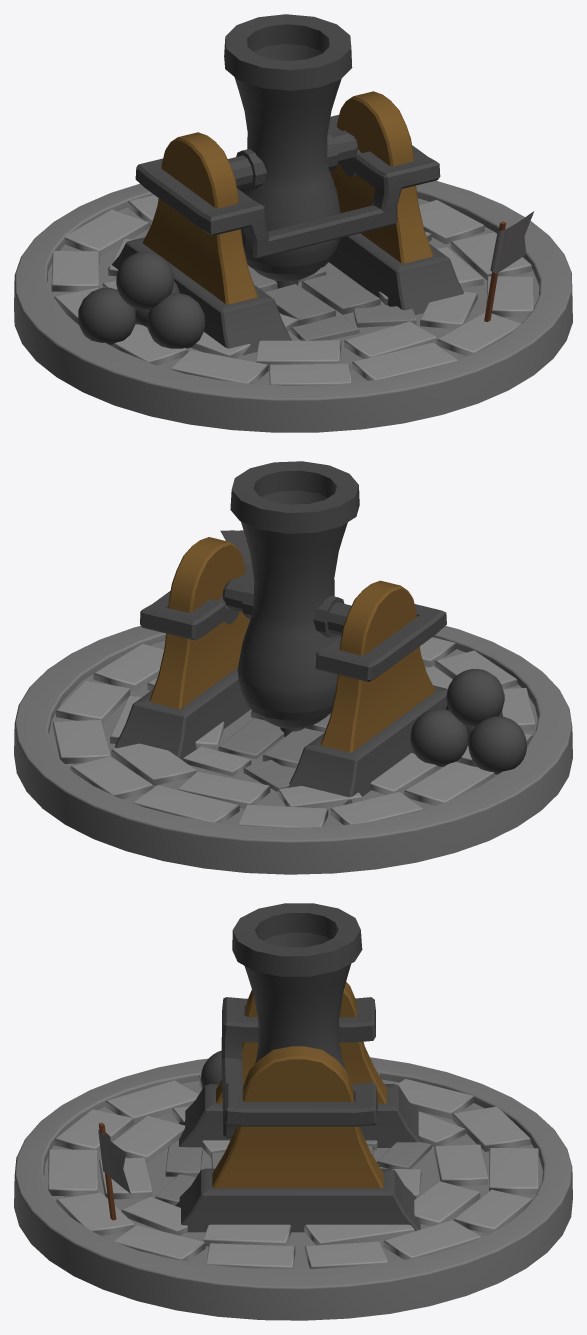
File: Cannon.fbx
3 views of the same model, one above another, from view 1: azimuth 30°, elevation 25°; view 2: azimuth 150°, elevation 25°; view 3: azimuth 270°, elevation 25° (orthographic).
Parts seen in each view (by area): view 1: Cannon, polySurface7, Cannon.004, polySurface4, polySurface4.001, polySurface7.001, Plane.009_feather_0; view 2: Cannon, polySurface7, Cannon.004, polySurface4, polySurface4.001, polySurface7.001; view 3: Cannon, Cannon.004, polySurface7, polySurface4, polySurface4.001, Plane.009_feather_0.
Part boxes in pixels (x1,y1,x2,y2): Cannon: (14, 171, 572, 432); polySurface7: (78, 14, 440, 348); Cannon.004: (51, 195, 533, 385); polySurface4: (143, 91, 433, 304); polySurface4.001: (108, 233, 463, 355); polySurface7.001: (116, 251, 173, 310); Plane.009_feather_0: (490, 211, 534, 273); Cannon: (14, 625, 572, 874); polySurface7: (140, 461, 526, 774); Cannon.004: (52, 636, 535, 827); polySurface4: (149, 537, 435, 752); polySurface4.001: (115, 667, 447, 804); polySurface7.001: (446, 669, 504, 726); Cannon: (14, 1057, 572, 1320); Cannon.004: (48, 1073, 538, 1269); polySurface7: (201, 903, 377, 1137); polySurface4: (212, 982, 387, 1188); polySurface4.001: (175, 1084, 423, 1232); Plane.009_feather_0: (98, 1129, 130, 1193).
Size of the model in its own units: 796 by 428 by 796.
